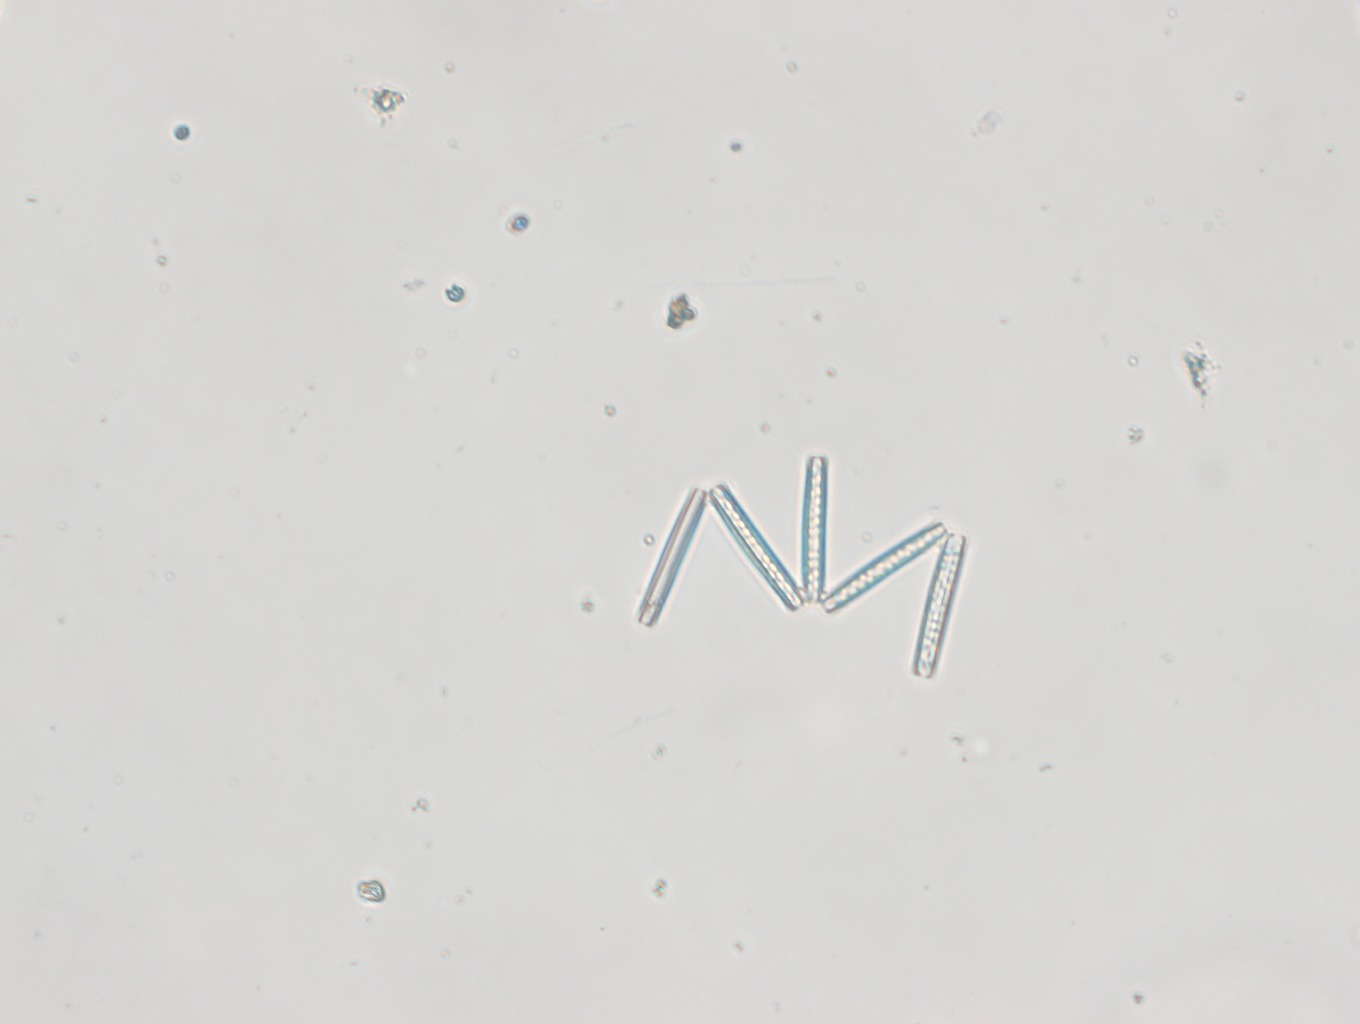thalassionema nitzschioides: (631, 452, 971, 691)
